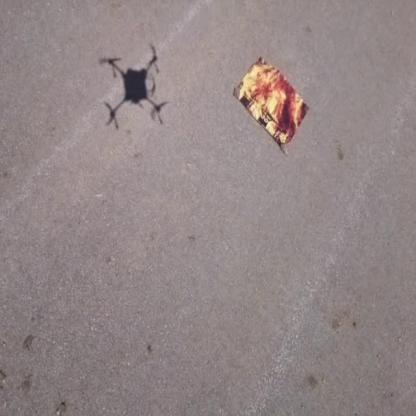fire-poster: (231, 55, 310, 156)
